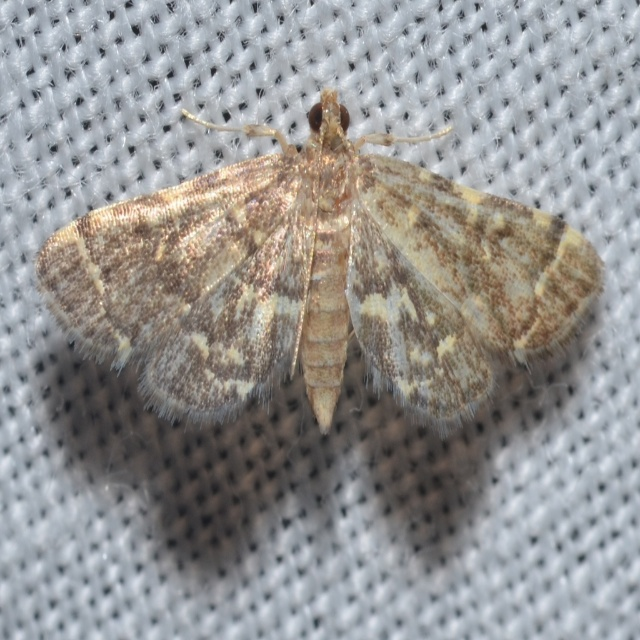Butterfly: (34, 86, 607, 436)
